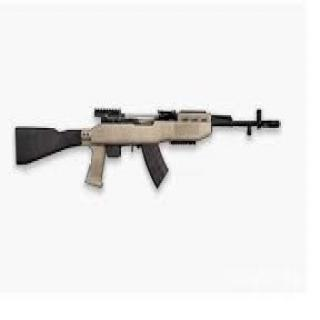gun: (9, 97, 289, 190)
